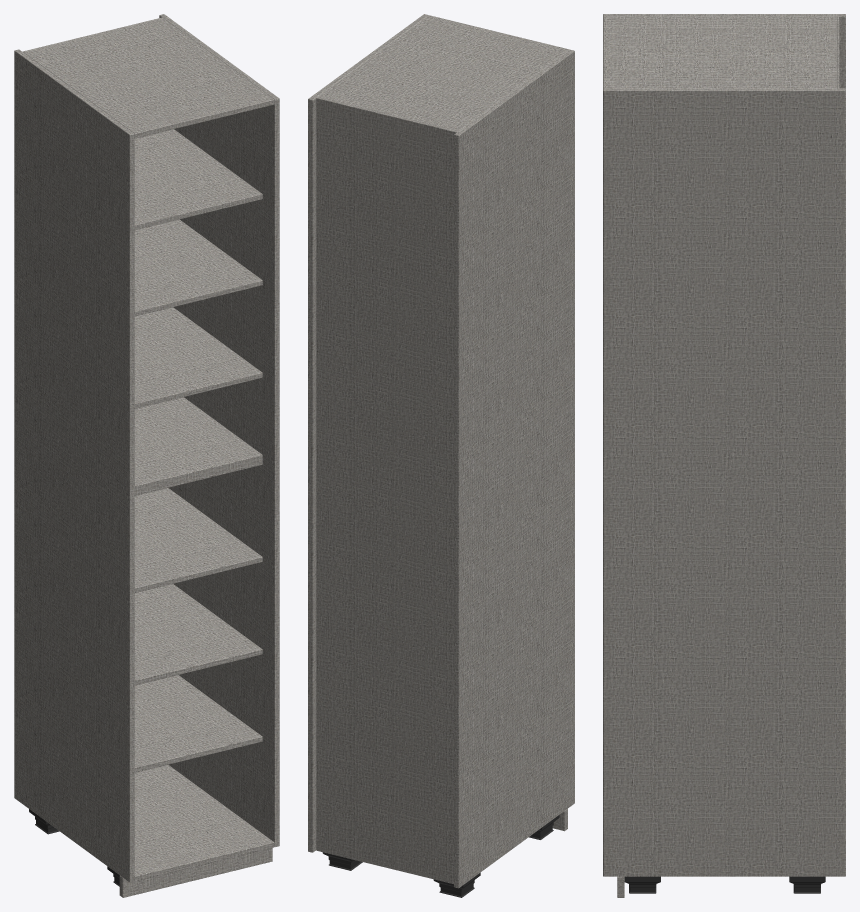
Rendered from cbib12138.gltf.
3 views of the same model, side by side, from view 1: azimuth 30°, elevation 25°; view 2: azimuth 150°, elevation 25°; view 3: azimuth 270°, elevation 25° (orthographic). The views are drawn at different scales.
Visible parts, largest first — view 1: CBIB12138; view 2: CBIB12138; view 3: CBIB12138.
Boxes of the visible parts, x1=… form: CBIB12138: x1=14, y1=14, x2=279, y2=897; CBIB12138: x1=308, y1=14, x2=574, y2=897; CBIB12138: x1=603, y1=14, x2=845, y2=897.
Size of the model in its own units: 0.45 by 2.2 by 0.6.
2 materials, 2 textured.
